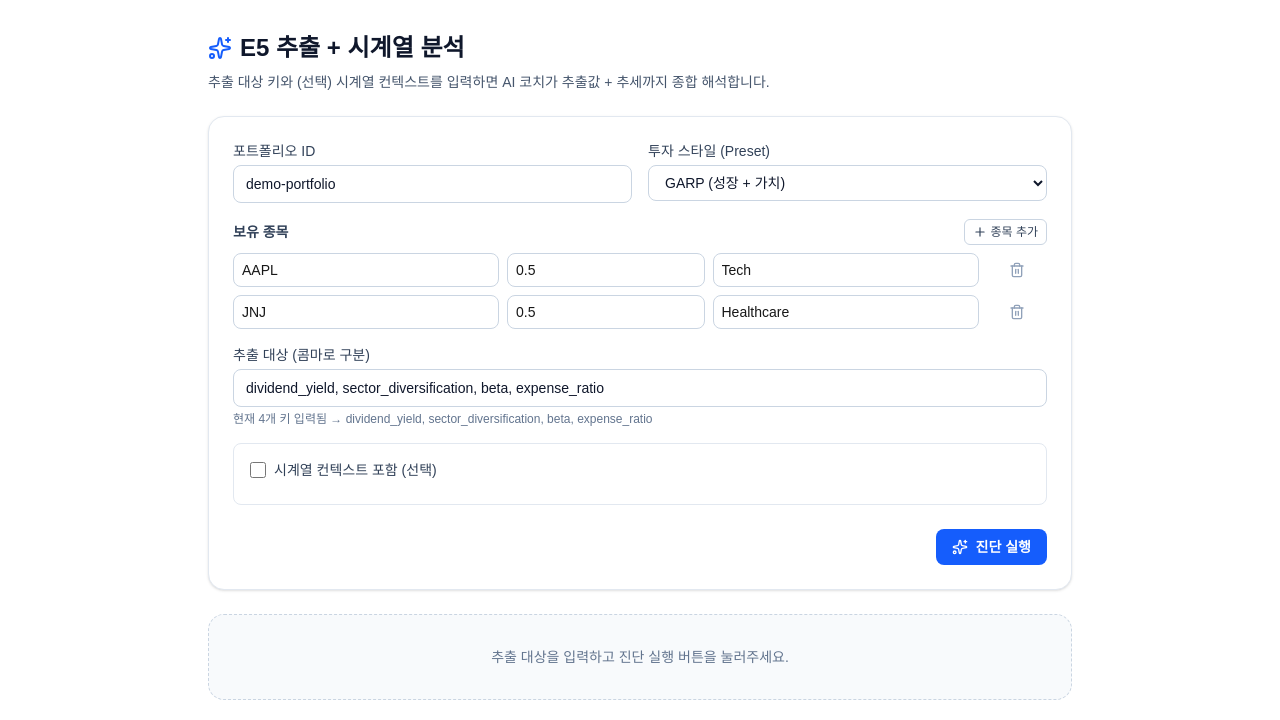
Scenario: E5 coach page (E5CoachContent) › "예시 값 채우기" → 4칸이 fixture 상수로 채워지고 제출 가능 + payload string 직렬화
This screenshot has width=1280, height=720.
Click the checkbox labelled "시계열 컨텍스트 포함 (선택)".
click(258, 470)  # box top-left (250, 462), bottom-right (266, 478)
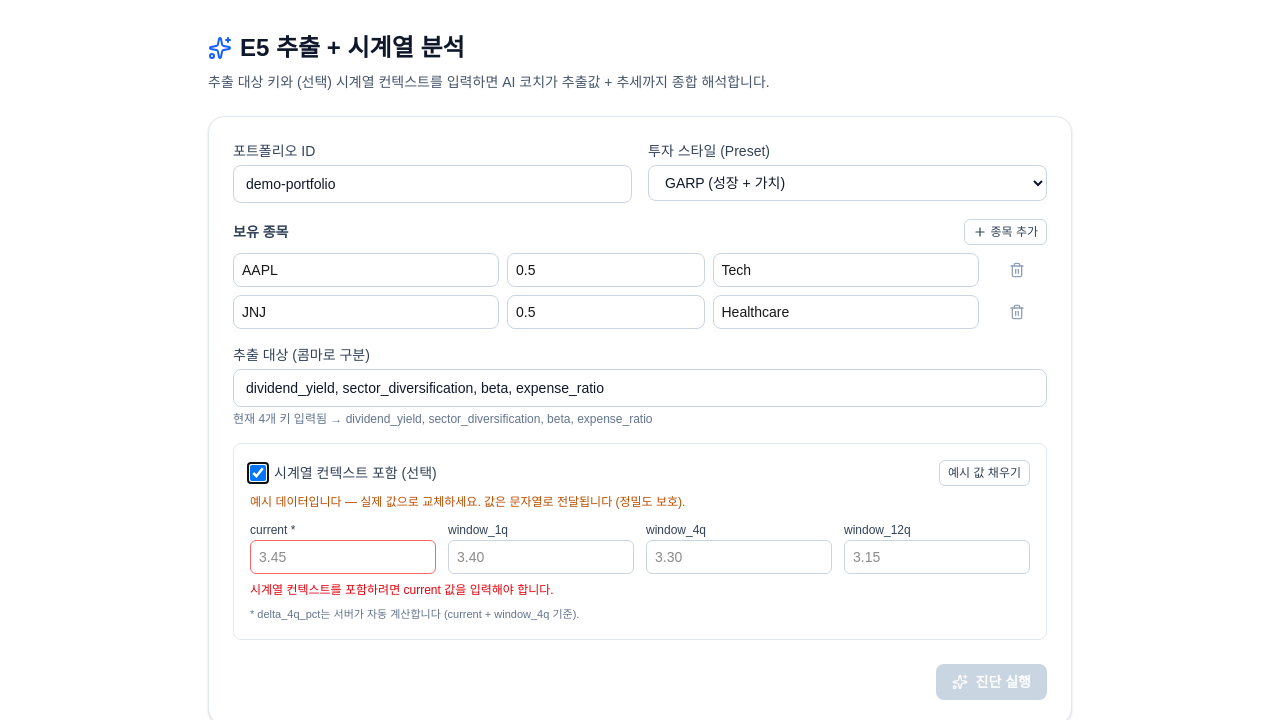
Click the button "예시 값 채우기".
click(985, 473)  # box top-left (939, 460), bottom-right (1030, 486)
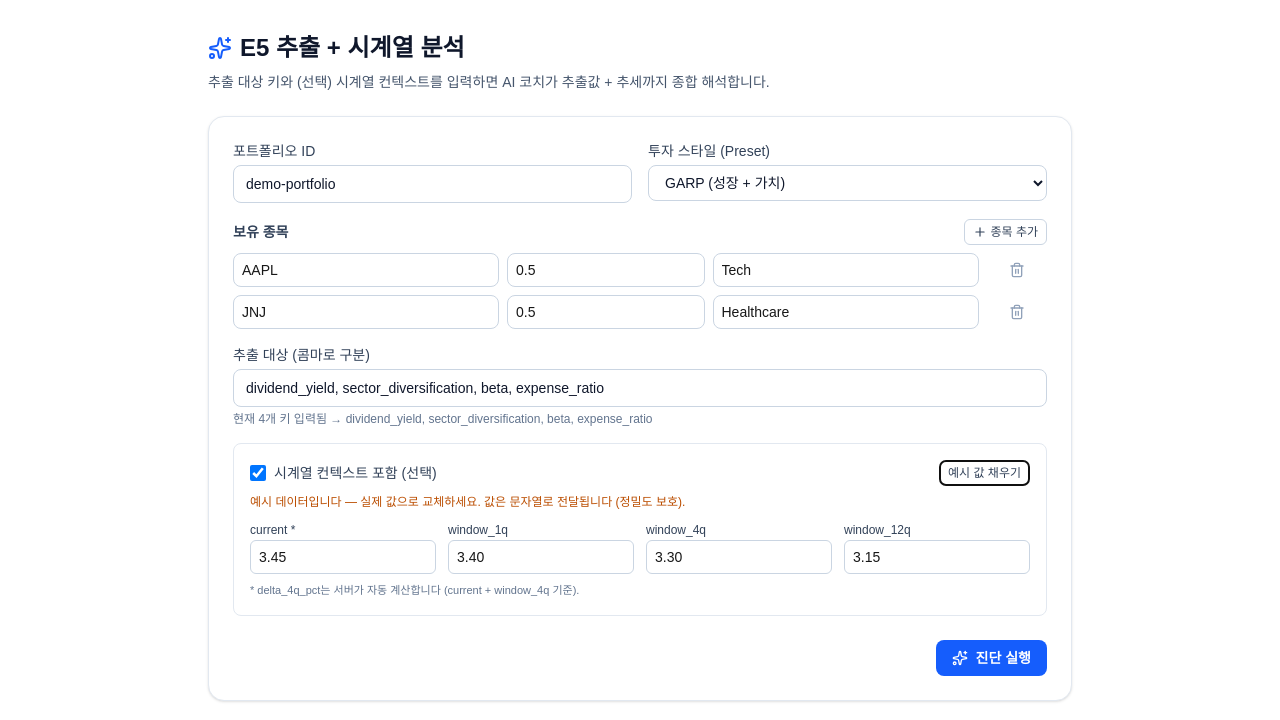
Expected: the field named "시계열 current" holds "3.45", top-left (250, 540), bottom-right (436, 574)
Expected: the field named "시계열 window_1q" holds "3.40", top-left (448, 540), bottom-right (634, 574)
Expected: the field named "시계열 window_4q" holds "3.30", top-left (646, 540), bottom-right (832, 574)
// 제출 → payload의 time_series_context가 string 직렬화 형태로 전달
Click the button "진단 실행".
click(991, 658)  # box top-left (936, 640), bottom-right (1047, 676)
(page scrolled)
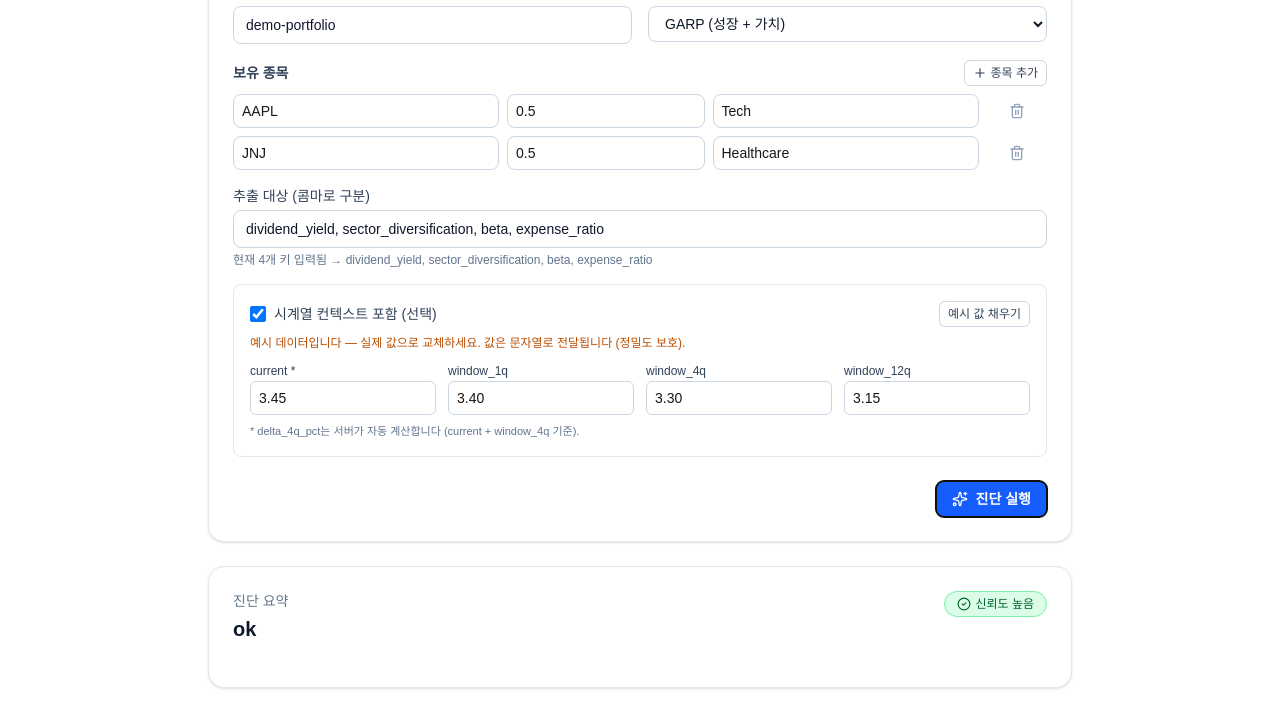
Expected: the element with test id "commentary-card" is shown, top-left (208, 566), bottom-right (1072, 688)
